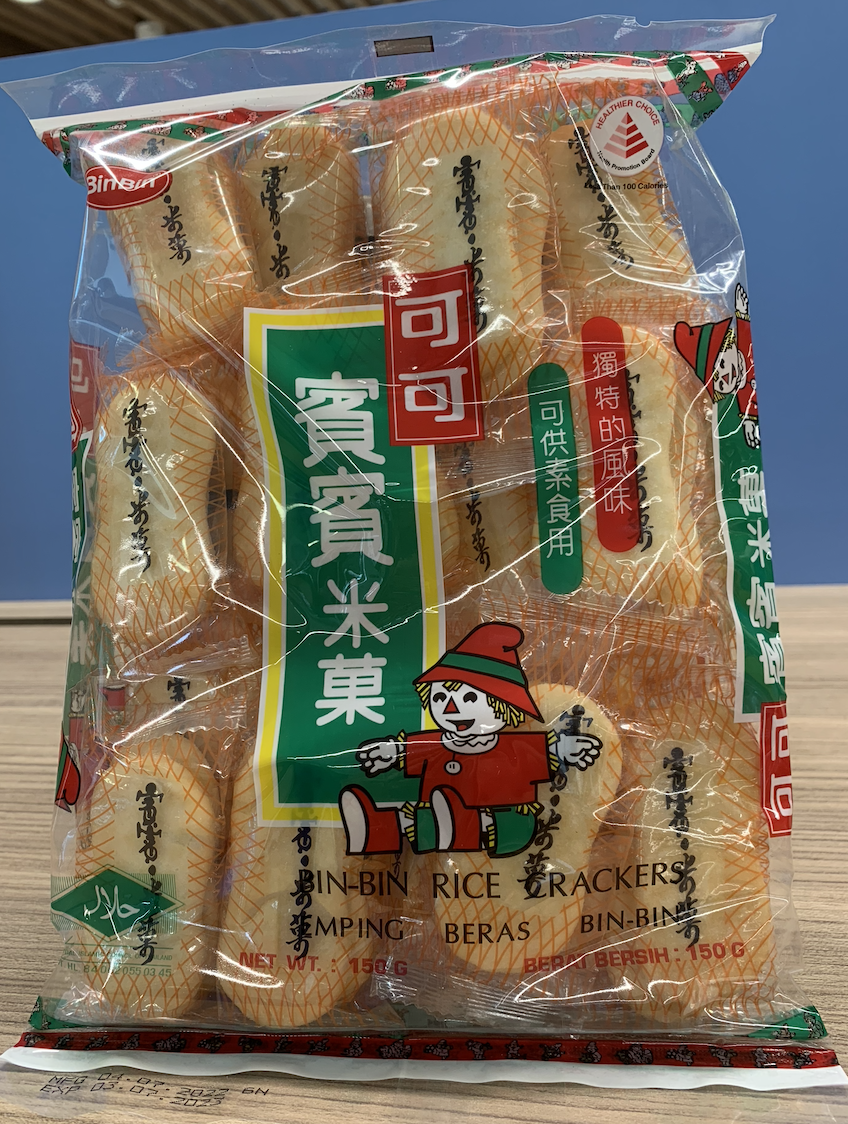crackers_150g: (71, 89, 791, 1060)
